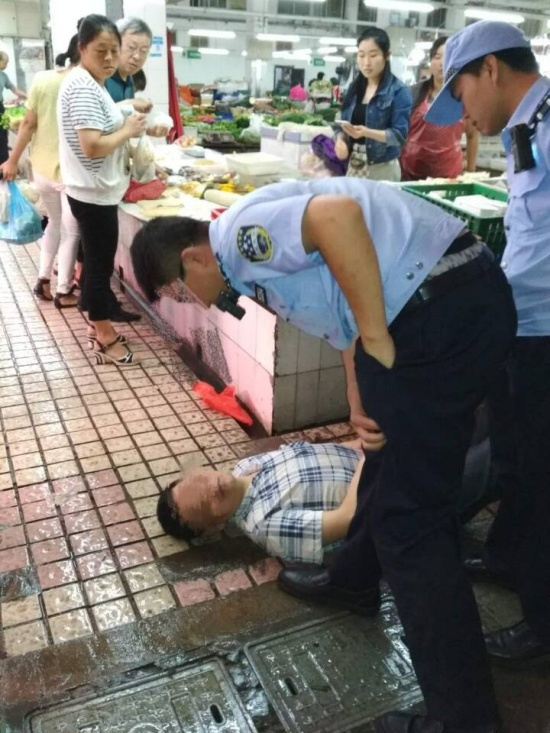falling: (140, 396, 534, 719)
